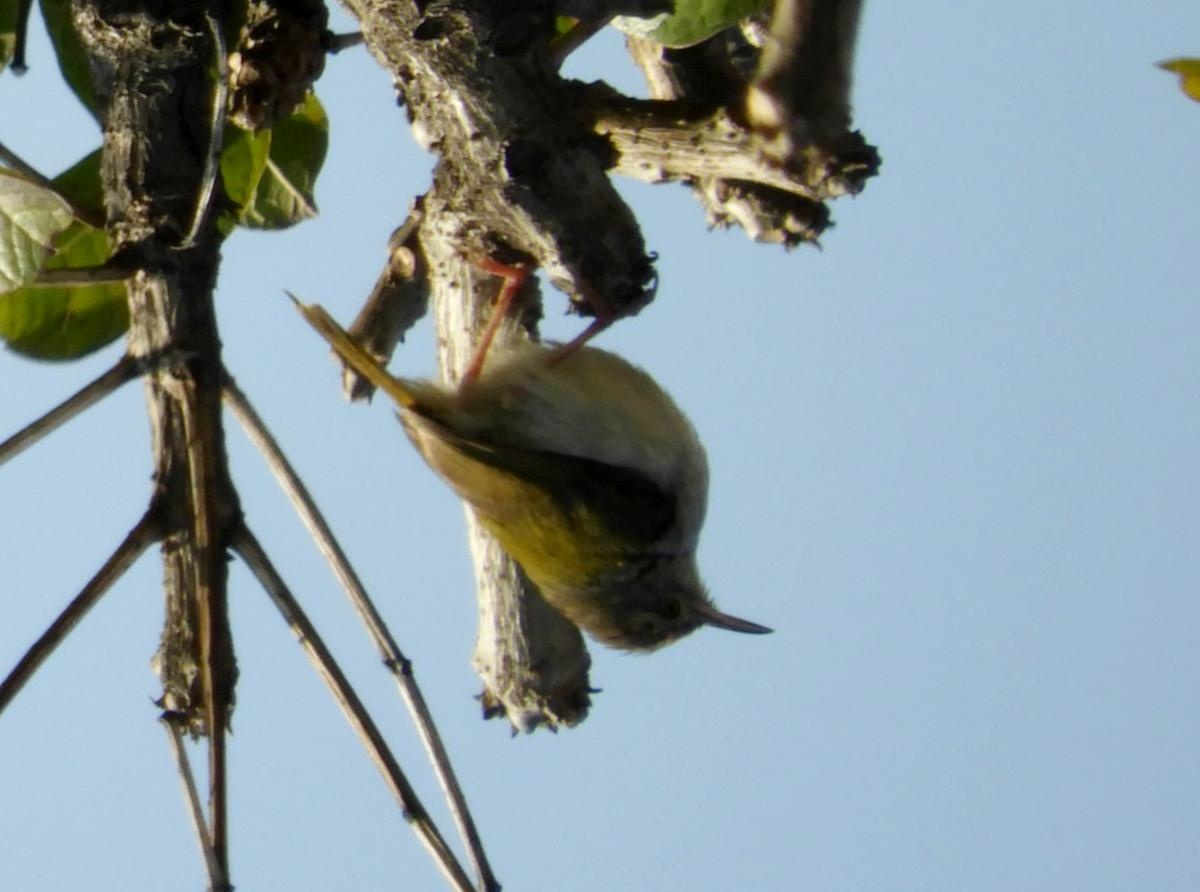tailorbird: (289, 219, 816, 680)
